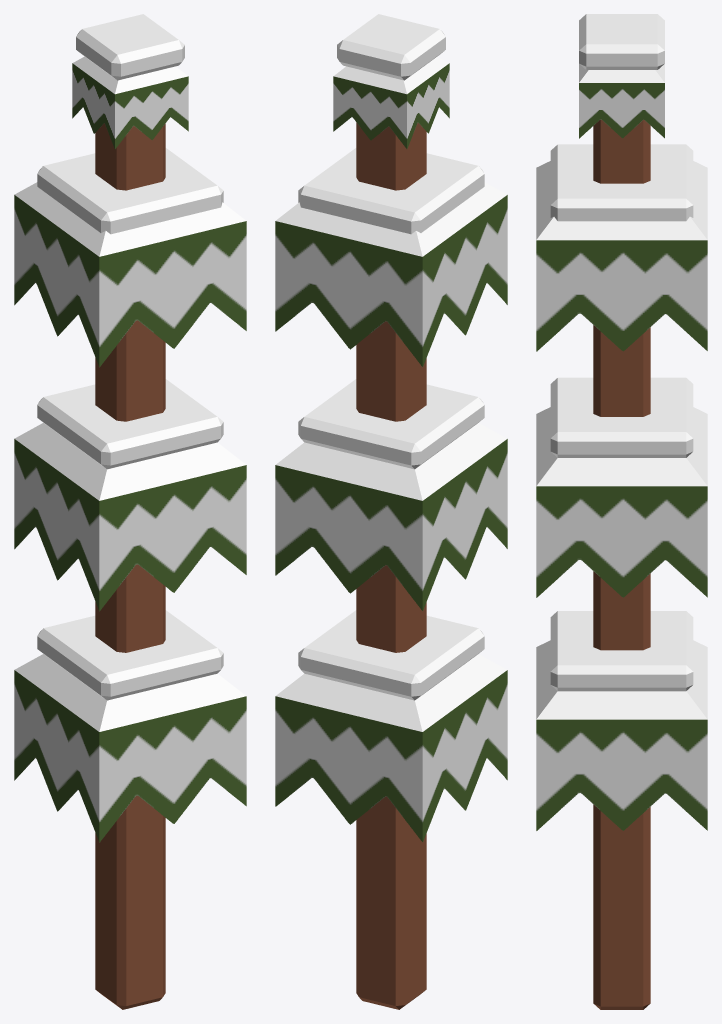
File: Tree 2.fbx
3 renders of one model, left to right at view 1: azimuth 30°, elevation 25°; view 2: azimuth 150°, elevation 25°; view 3: azimuth 270°, elevation 25°, orthographic.
Parts seen in each view (by area): view 1: Tree_Crown_3, Tree_Crown_4, Trunk, Tree_Crown_2, Snow_3, Snow_4, Snow_2, Tree_Crown_1, Snow_1; view 2: Tree_Crown_3, Tree_Crown_4, Trunk, Tree_Crown_2, Snow_3, Snow_4, Snow_2, Tree_Crown_1, Snow_1; view 3: Trunk, Tree_Crown_4, Tree_Crown_3, Tree_Crown_2, Snow_4, Snow_3, Snow_2, Tree_Crown_1, Snow_1.
Part boxes in pixels (left/top/right/bottom): Tree_Crown_3: left=14, top=423, right=246, bottom=611; Tree_Crown_4: left=14, top=654, right=246, bottom=842; Trunk: left=95, top=123, right=165, bottom=1009; Tree_Crown_2: left=14, top=182, right=246, bottom=367; Snow_3: left=37, top=379, right=223, bottom=469; Snow_4: left=37, top=610, right=223, bottom=700; Snow_2: left=37, top=148, right=223, bottom=234; Tree_Crown_1: left=72, top=56, right=188, bottom=148; Snow_1: left=76, top=14, right=184, bottom=80; Tree_Crown_3: left=275, top=423, right=507, bottom=611; Tree_Crown_4: left=275, top=654, right=507, bottom=842; Trunk: left=356, top=122, right=426, bottom=1009; Tree_Crown_2: left=275, top=182, right=507, bottom=367; Snow_3: left=298, top=379, right=484, bottom=469; Snow_4: left=298, top=610, right=484, bottom=700; Snow_2: left=298, top=148, right=484, bottom=234; Tree_Crown_1: left=333, top=56, right=449, bottom=148; Snow_1: left=337, top=14, right=445, bottom=80; Trunk: left=593, top=119, right=650, bottom=1009; Tree_Crown_4: left=536, top=640, right=707, bottom=830; Tree_Crown_3: left=536, top=407, right=707, bottom=597; Tree_Crown_2: left=536, top=161, right=707, bottom=351; Snow_4: left=550, top=611, right=693, bottom=691; Snow_3: left=550, top=377, right=693, bottom=457; Snow_2: left=550, top=144, right=693, bottom=221; Tree_Crown_1: left=579, top=64, right=664, bottom=138; Snow_1: left=579, top=14, right=664, bottom=69.
Size of the model in its own units: 0.6 by 3.75 by 0.6.
